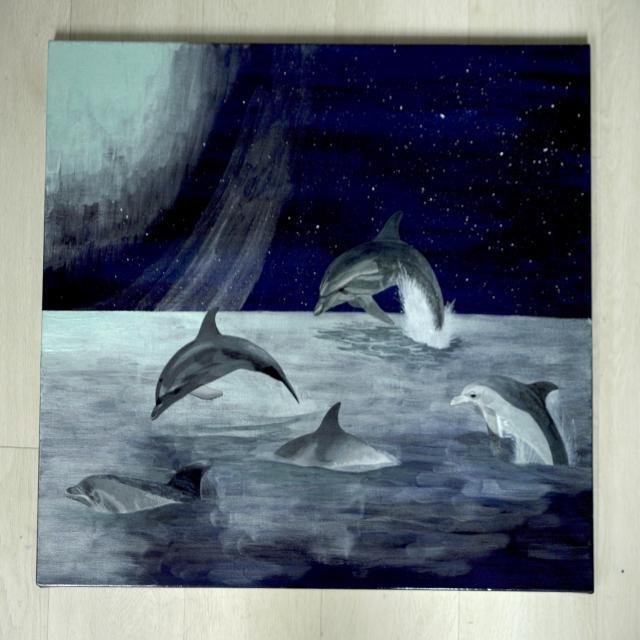painting: (37, 42, 593, 591)
